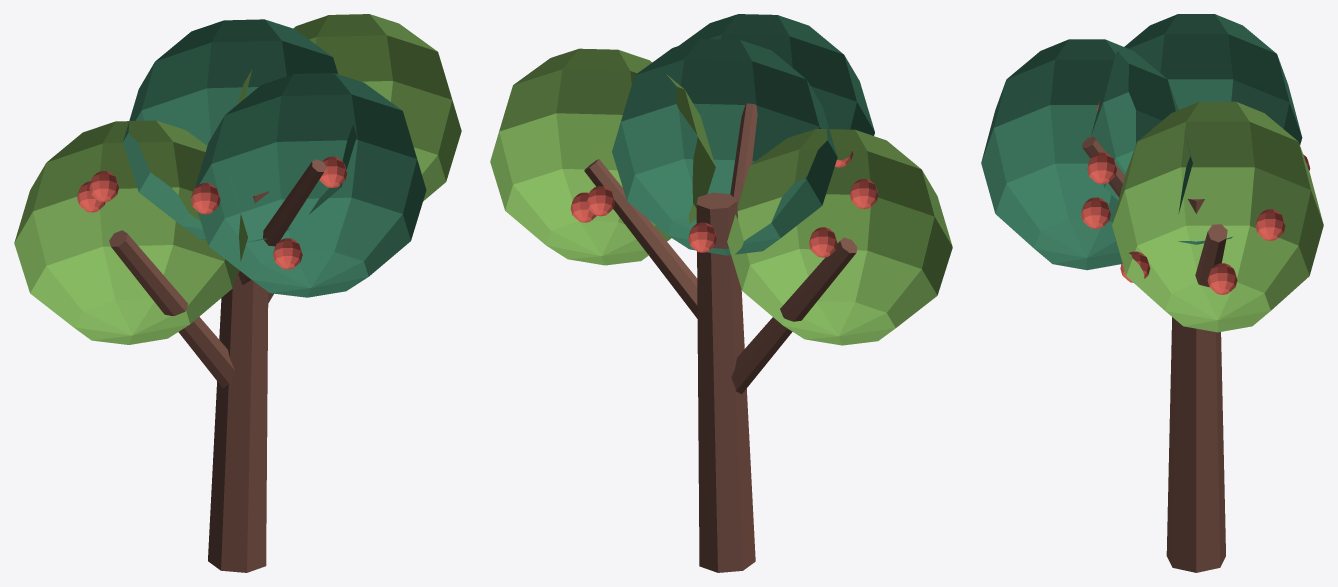
File: turning-seasons-summer-orchard-tree-bb06a0f0__2105.glb
The picture shows the model from 3 angles, left to right: view 1: azimuth 30°, elevation 25°; view 2: azimuth 150°, elevation 25°; view 3: azimuth 270°, elevation 25°; orthographic projection. The views are drawn at different scales.
Visible parts, largest first — view 1: summer-orchard-tree; view 2: summer-orchard-tree; view 3: summer-orchard-tree.
Boxes of the visible parts, x1,y1,x2,y2 form: summer-orchard-tree: (14,14,461,572); summer-orchard-tree: (490,14,952,572); summer-orchard-tree: (981,14,1323,572).
Bounding box in the file's own units: 2.83 × 3.31 × 1.91.
